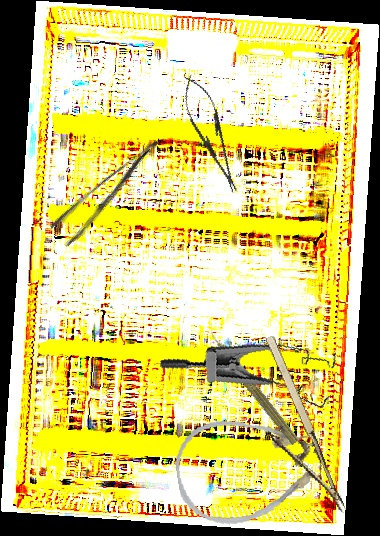Cannula: (169, 406, 328, 532)
Dressing Forceps: (47, 137, 175, 248)
Handpiece: (199, 320, 305, 448)
Needle Holder: (237, 333, 347, 528), (173, 70, 249, 199)
Speculum: (158, 319, 348, 442)
